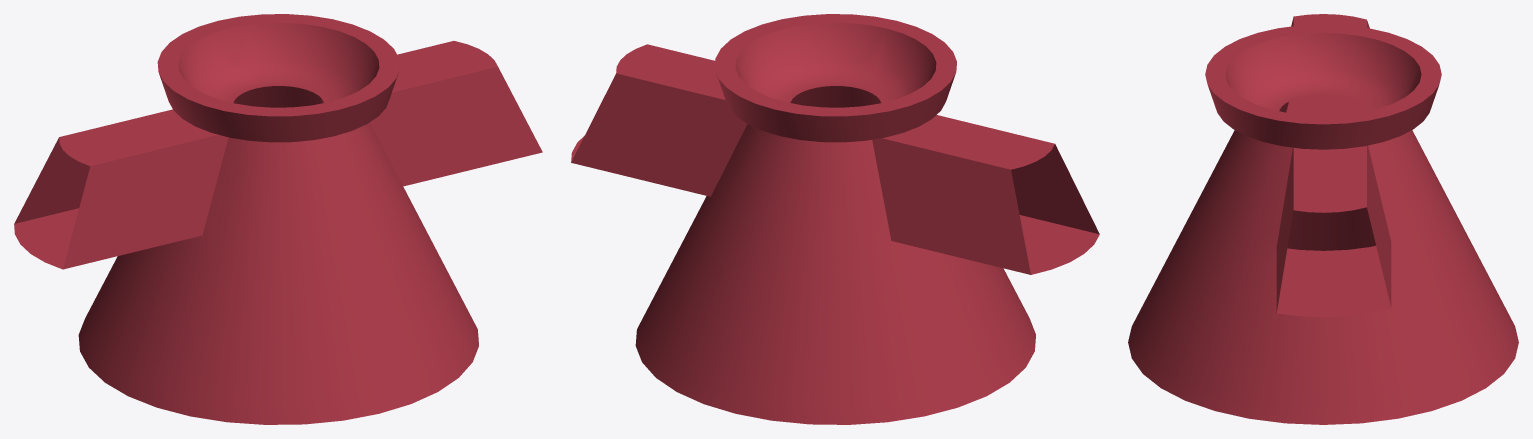
File: Cloth-einzeln-subdivision-2.fbx
3 renders of one model, left to right at view 1: azimuth 30°, elevation 25°; view 2: azimuth 150°, elevation 25°; view 3: azimuth 270°, elevation 25°, orthographic. The views are drawn at different scales.
Parts seen in each view (by area): view 1: cloth; view 2: cloth; view 3: cloth.
Part boxes in pixels (box(x1,y1,x2,y2)): cloth: box(14, 14, 542, 424); cloth: box(571, 14, 1099, 424); cloth: box(1128, 14, 1518, 424).
Size of the model in its own units: 99.98 by 52.93 by 69.98.
